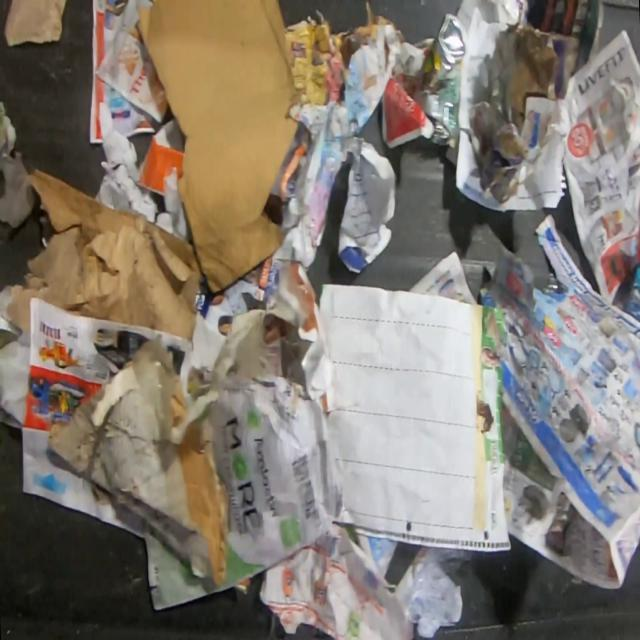cardboard: (135, 0, 302, 295), (46, 364, 230, 588), (4, 168, 204, 342), (285, 2, 397, 107), (3, 0, 70, 49)
metal: (419, 12, 468, 149)
soft_plastic: (133, 335, 179, 442)
